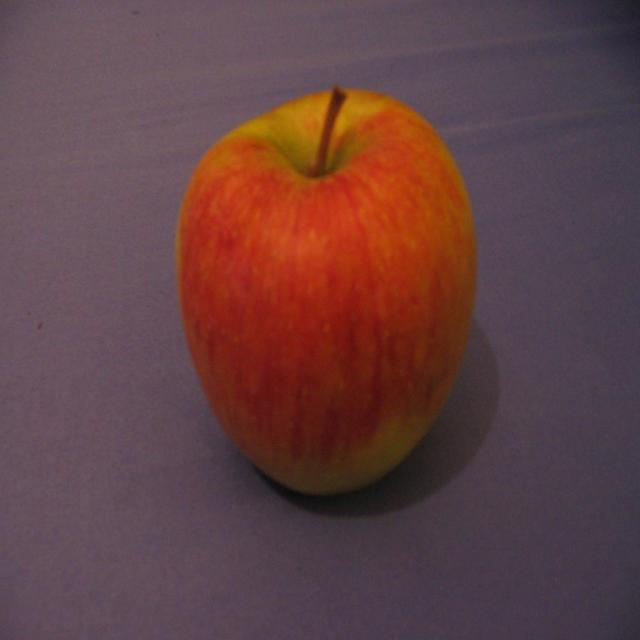Healty Apple: (173, 94, 472, 510)
